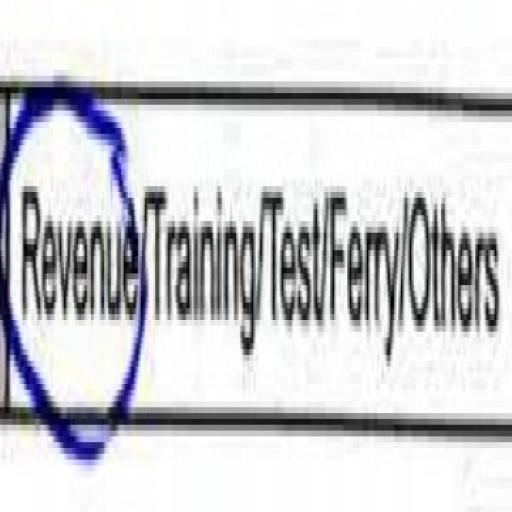check: (0, 4, 147, 504)
